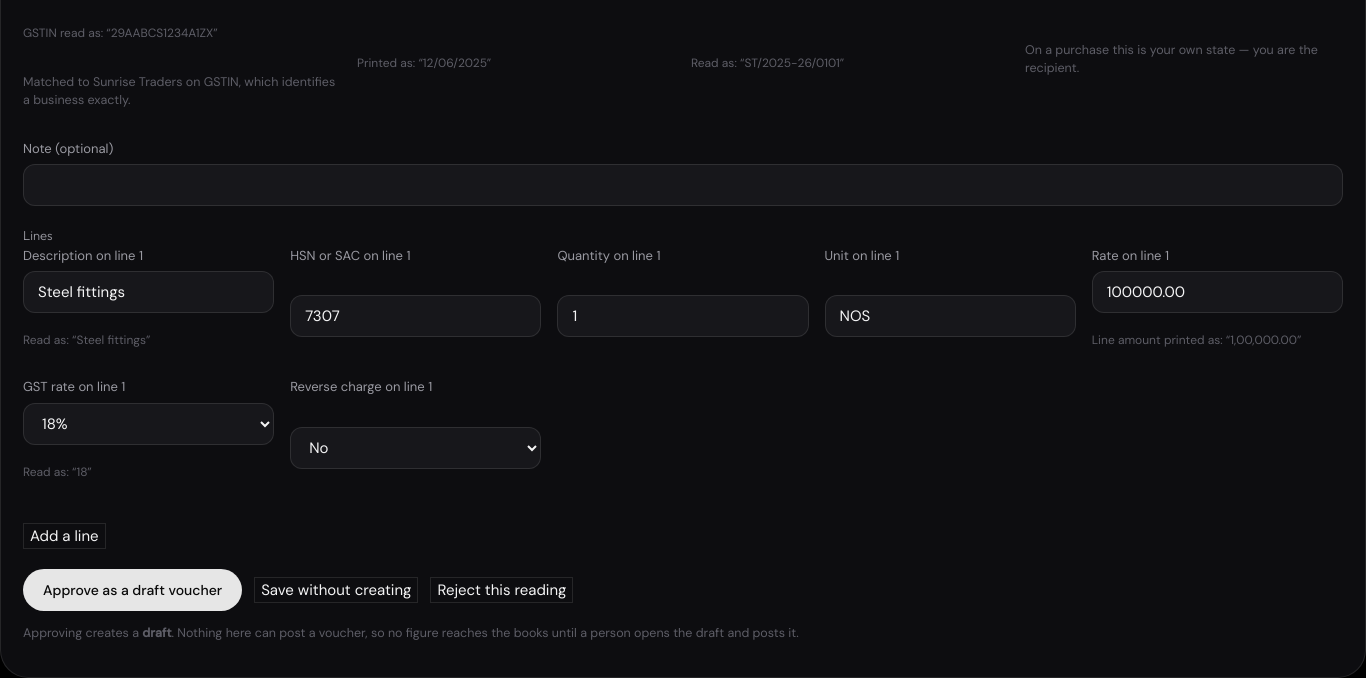
it: ReviewForm › shows the server’s refusal rather than claiming a draft was made
(page scrolled)
Step 1. Click the button "Approve as a draft voucher" → [133, 590], box [23,569,242,611]
(page scrolled)
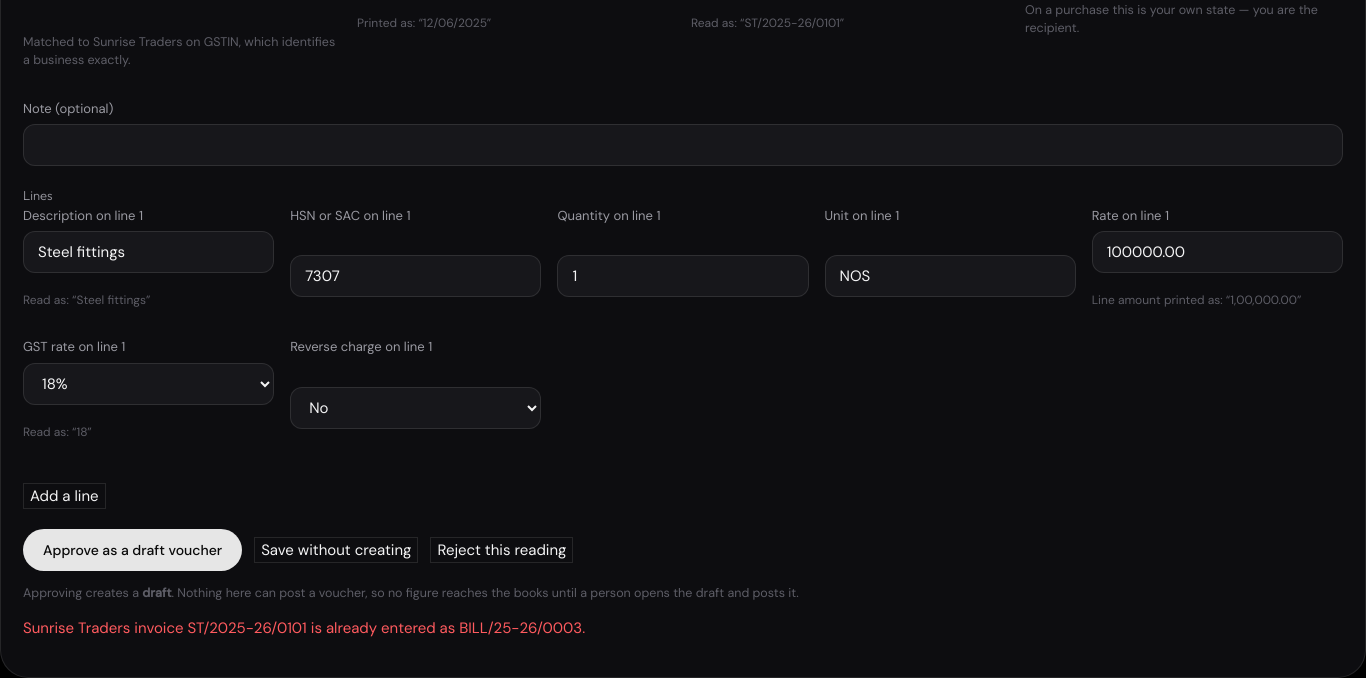
Check: the text "already entered as BILL/25-26/0003" is shown, box [23,618,585,638]
